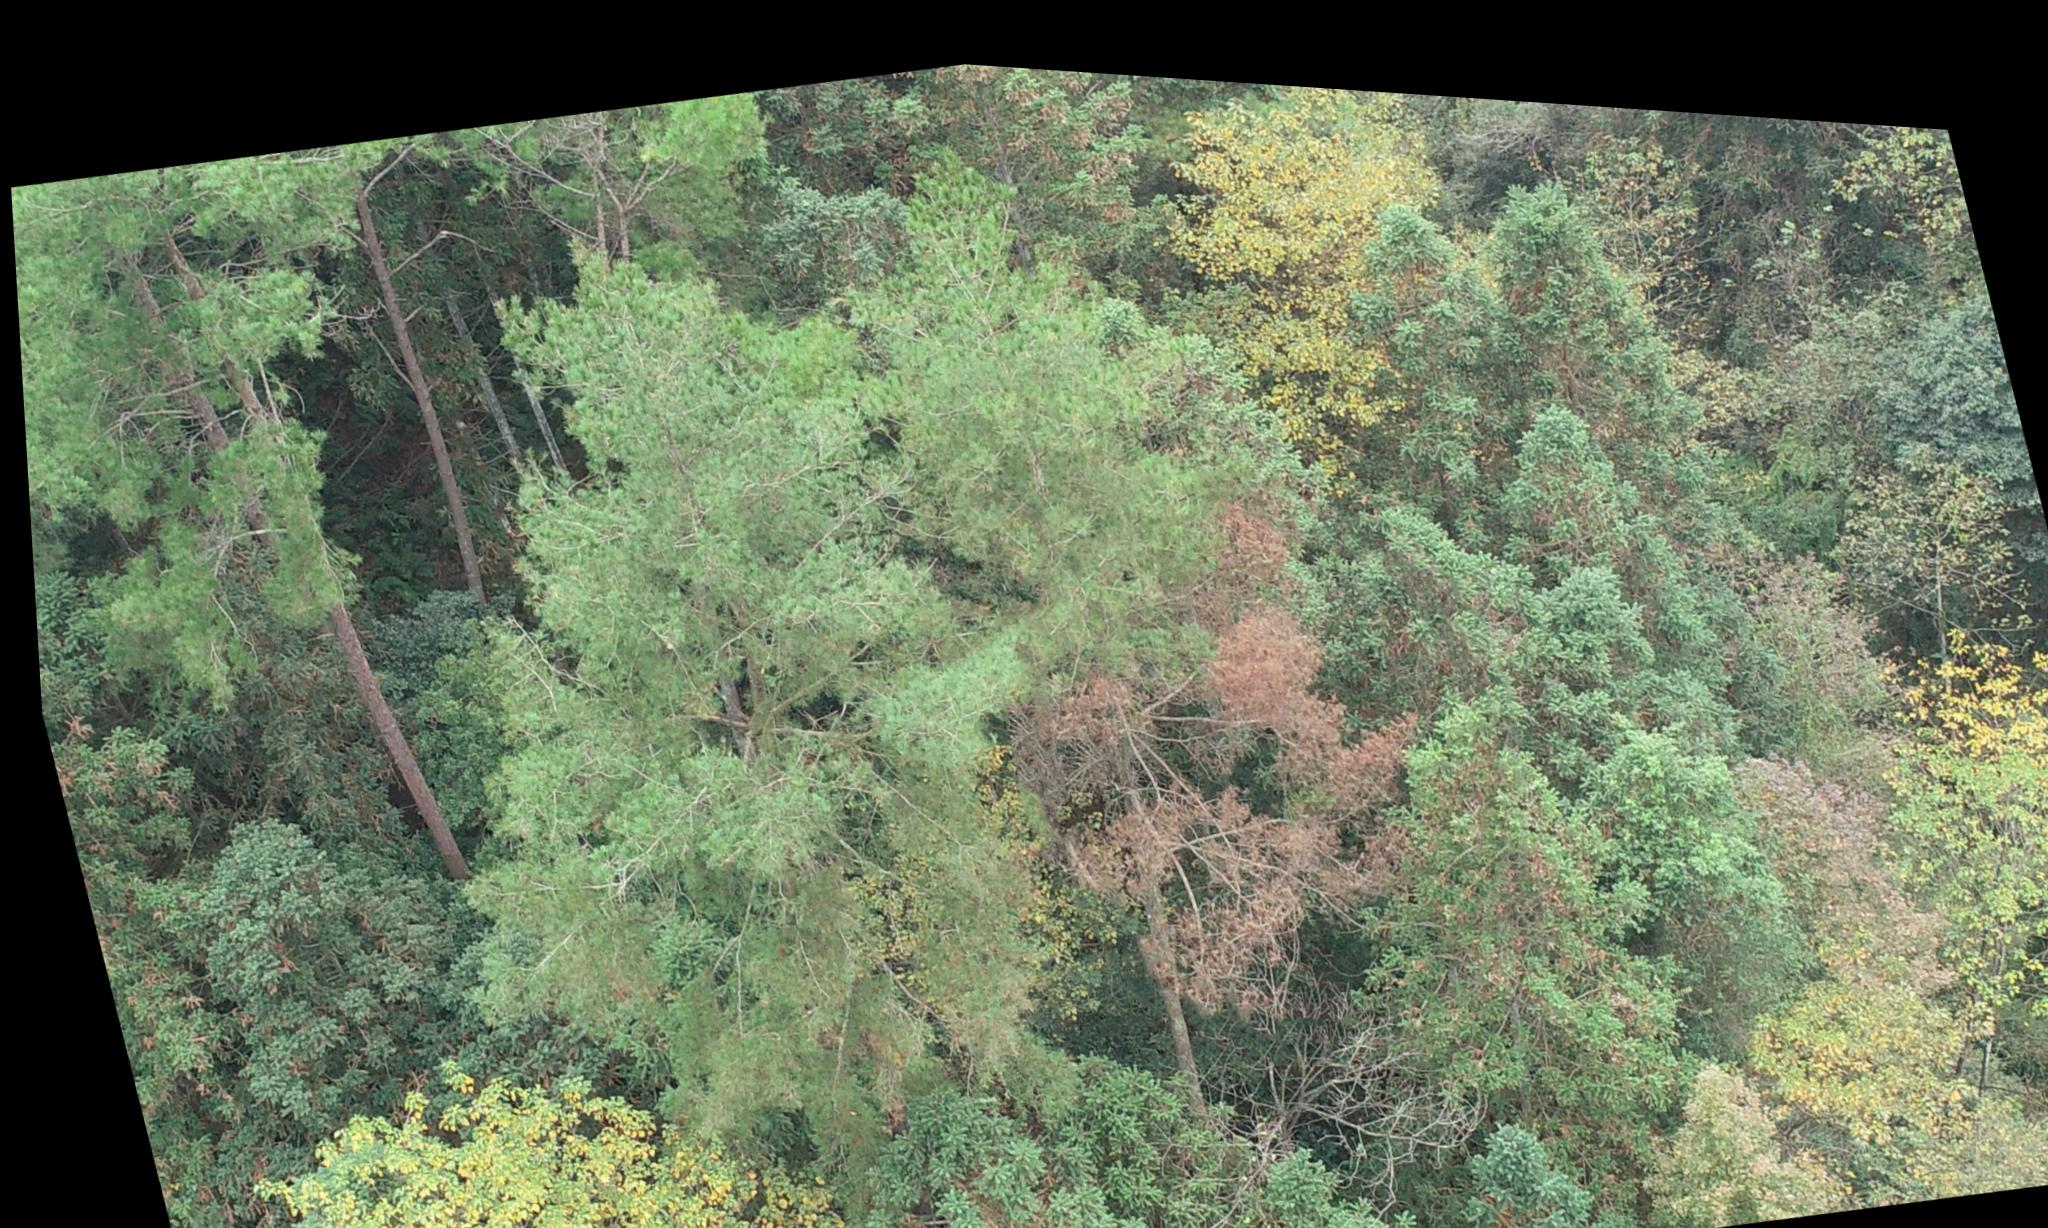heavy: (1016, 551, 1475, 1041)
